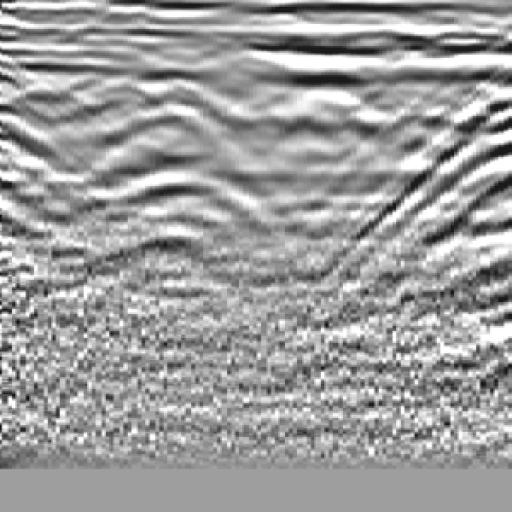metalic: (78, 41, 268, 285)
nonmetalic: (369, 36, 512, 279)
